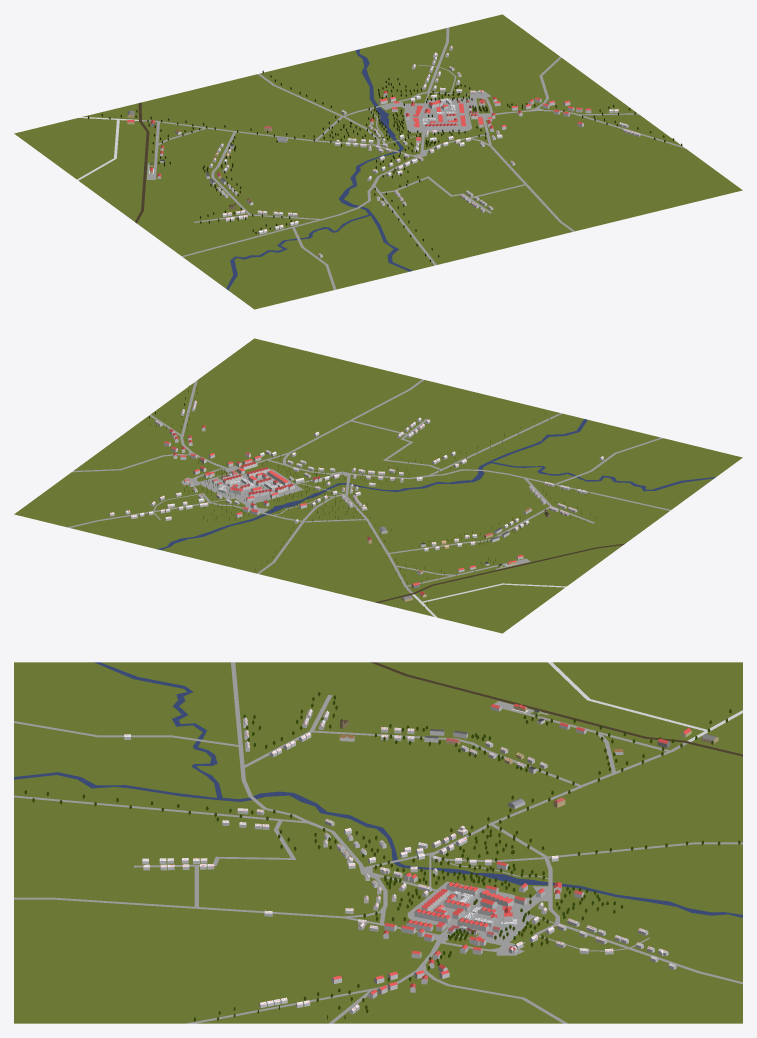
The model's file is Proste.dae.
3 views of the same model, one above another, from view 1: azimuth 30°, elevation 25°; view 2: azimuth 150°, elevation 25°; view 3: azimuth 270°, elevation 25° (orthographic). The views are drawn at different scales.
Visible parts, largest first — view 1: SketchUp (×24); view 2: SketchUp (×25); view 3: SketchUp (×33).
Boxes of the visible parts, x1=… form: SketchUp (×24): x1=14, y1=14, x2=742, y2=309; SketchUp (×25): x1=14, y1=338, x2=742, y2=633; SketchUp (×33): x1=14, y1=662, x2=742, y2=1023.
Size of the model in its own units: 45658 by 38927 by 557.
